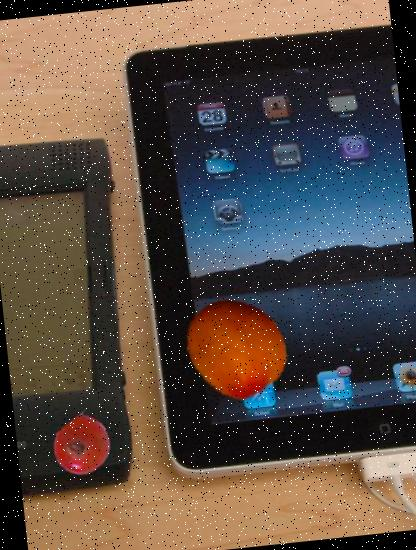Apricot: (177, 288, 295, 406)
Redcurrant: (50, 414, 114, 478)
